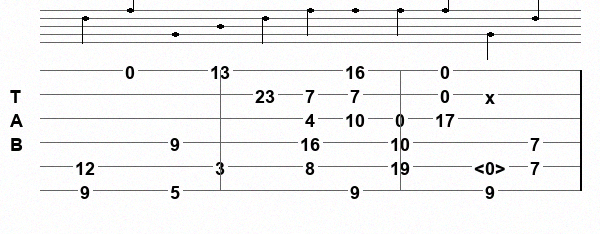0: (125, 62, 139, 79), (395, 110, 409, 127), (440, 86, 454, 103), (440, 62, 454, 79)
10: (345, 110, 369, 127), (390, 134, 414, 151)
12: (75, 158, 99, 175)
13: (210, 62, 234, 79)
16: (300, 134, 324, 151), (345, 62, 369, 79)
17: (435, 110, 459, 127)
19: (390, 158, 414, 175)
23: (255, 86, 279, 103)
3: (215, 158, 229, 175)
4: (305, 110, 319, 127)
5: (170, 182, 184, 199)
7: (305, 86, 319, 103), (350, 86, 364, 103), (530, 134, 544, 151), (530, 158, 544, 175)
8: (305, 158, 319, 175)
9: (80, 182, 94, 199), (170, 134, 184, 151), (350, 182, 364, 199), (485, 182, 499, 199)
harmonic: (474, 158, 510, 175)
x: (485, 87, 499, 101)
